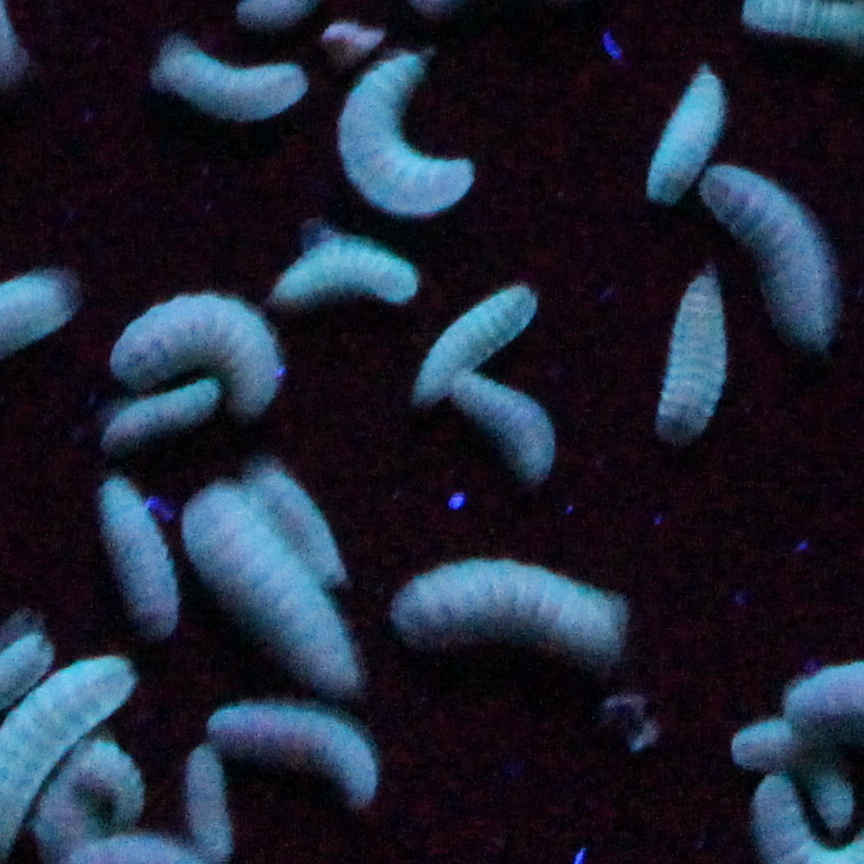larve: (182, 482, 355, 691), (382, 546, 624, 664), (340, 54, 478, 219), (210, 702, 375, 815), (146, 27, 308, 126), (268, 215, 417, 306), (426, 286, 533, 407), (99, 471, 173, 631), (455, 362, 552, 482), (660, 274, 729, 441), (645, 68, 727, 208), (257, 469, 341, 584), (104, 380, 221, 451), (81, 738, 151, 835), (322, 19, 387, 52)
